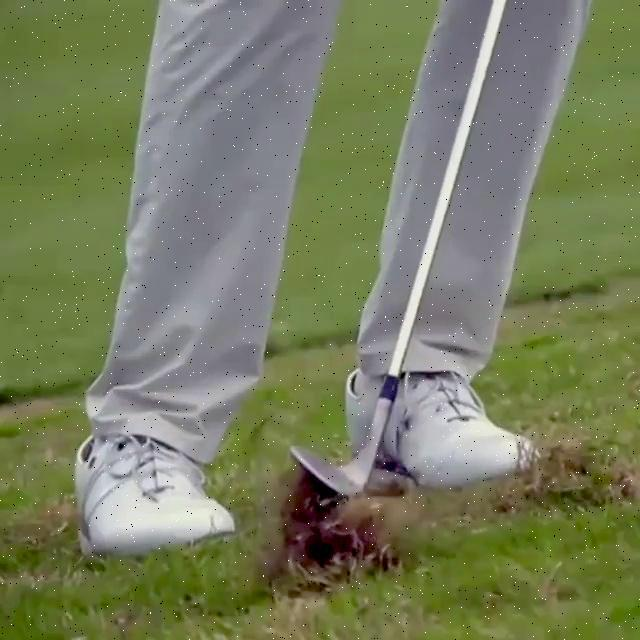ClubHead: (289, 445, 376, 497)
